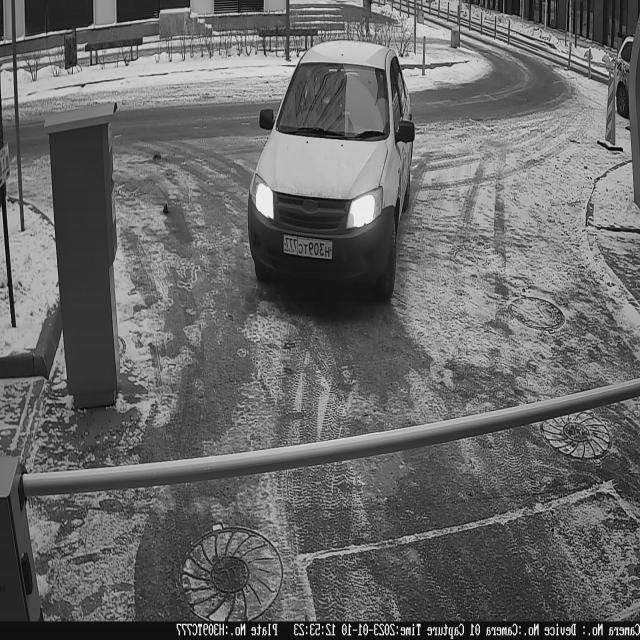car-plate-numbers: (282, 235, 337, 265)
